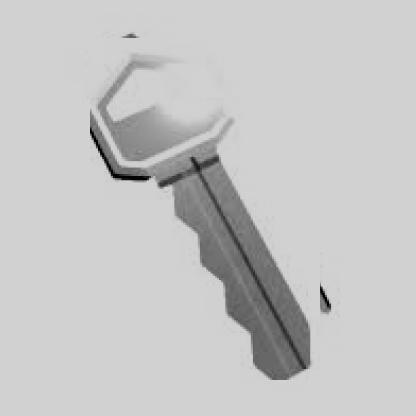key: (90, 38, 320, 380)
